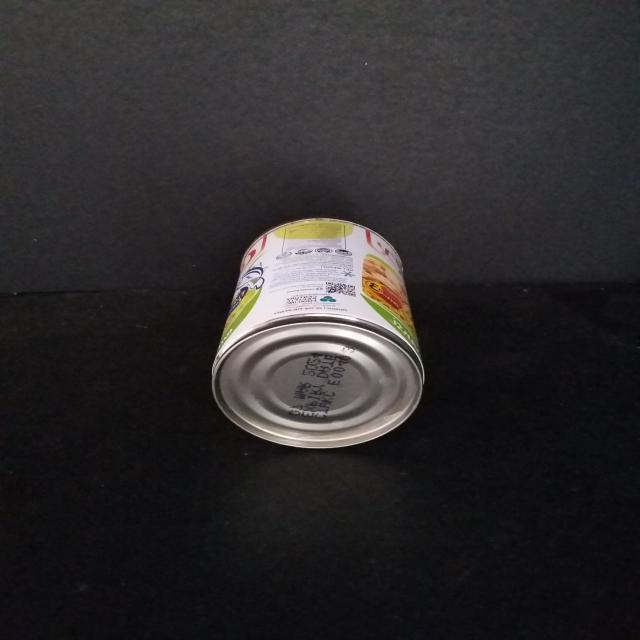metal: (210, 216, 430, 452)
